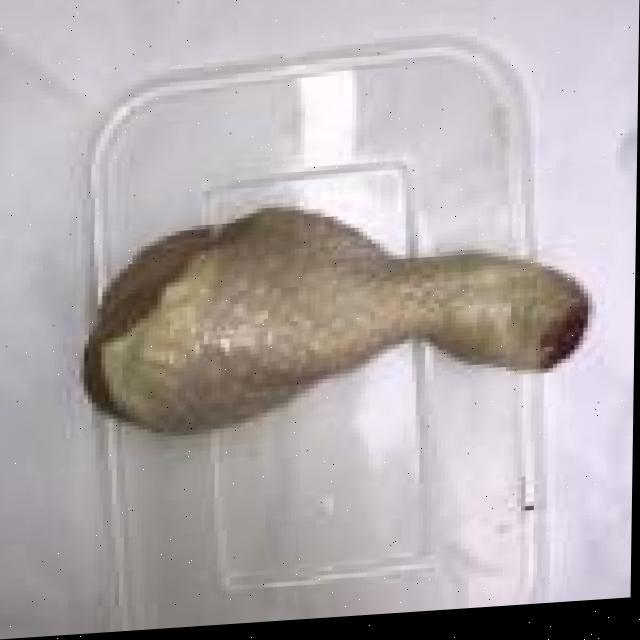leg: (81, 190, 588, 467)
